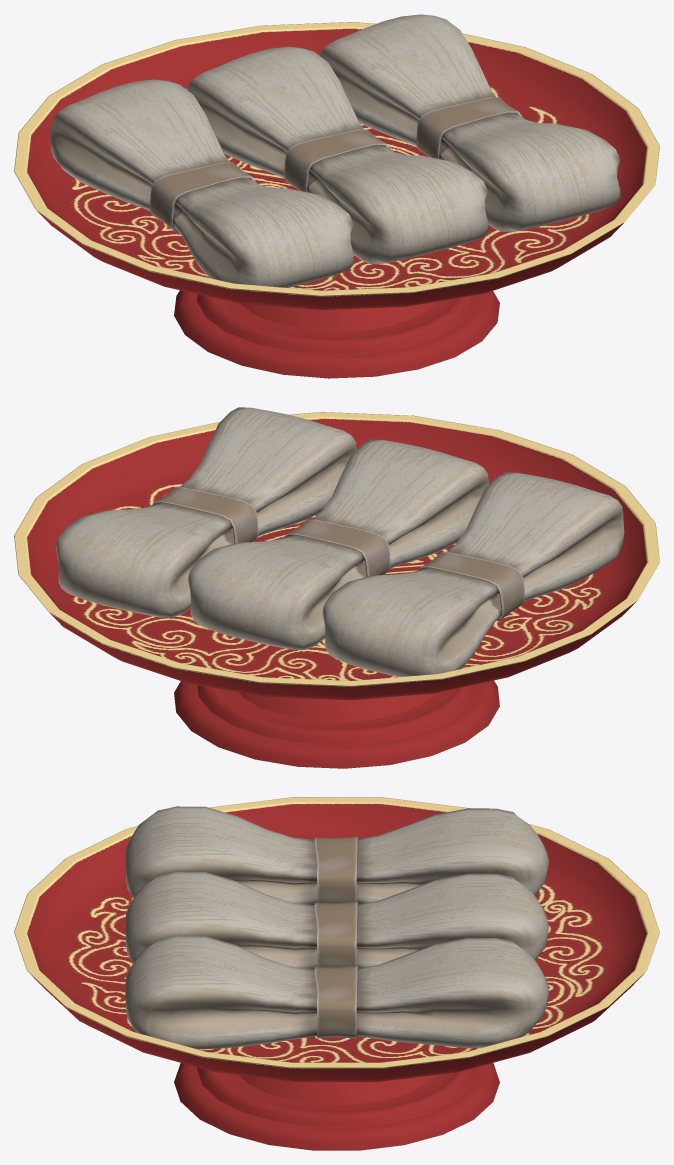
The model's file is NoodlePlate.fbx.
The picture shows the model from 3 angles, top to bottom: view 1: azimuth 30°, elevation 25°; view 2: azimuth 150°, elevation 25°; view 3: azimuth 270°, elevation 25°; orthographic projection.
Parts seen in each view (by area): view 1: noodles_low.001, plate.002; view 2: noodles_low.001, plate.002; view 3: noodles_low.001, plate.002.
Boxes of the visible parts, box(x1,y1,x2,y2) form: noodles_low.001: box(50, 14, 620, 287); plate.002: box(14, 22, 659, 378); noodles_low.001: box(55, 407, 624, 676); plate.002: box(14, 412, 659, 768); noodles_low.001: box(125, 806, 548, 1049); plate.002: box(14, 797, 659, 1150).
Size of the model in its own units: 24.69 by 8.04 by 24.93.
